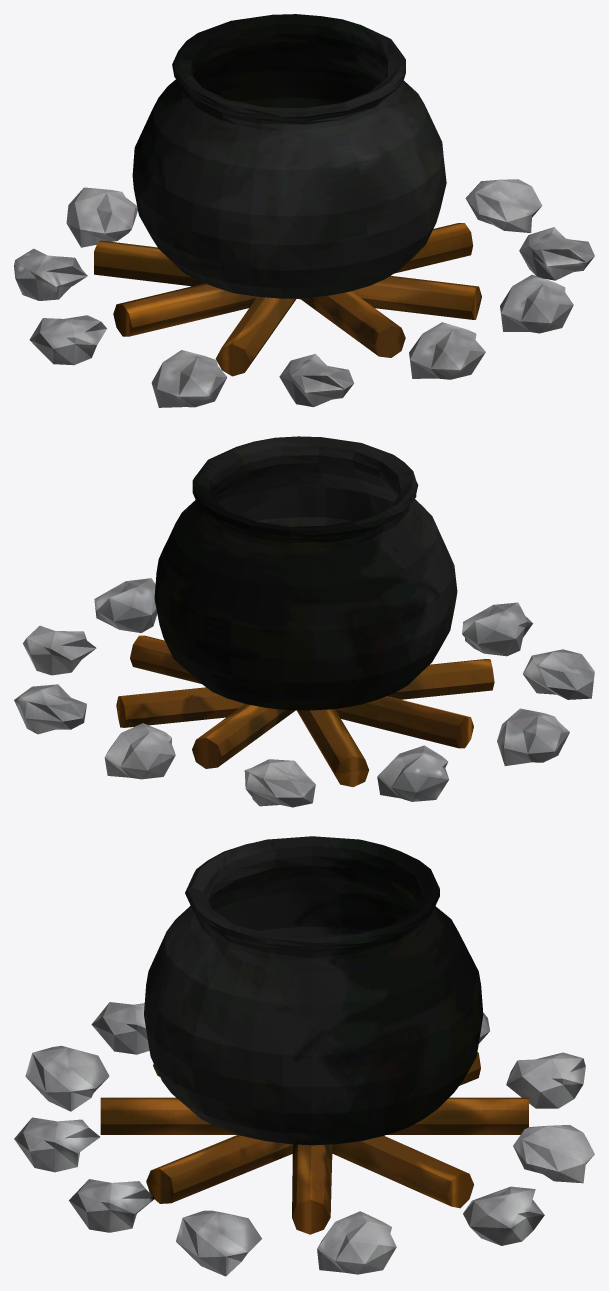
The model's file is Kettle.glb.
The picture shows the model from 3 angles, top to bottom: view 1: azimuth 30°, elevation 25°; view 2: azimuth 150°, elevation 25°; view 3: azimuth 270°, elevation 25°; orthographic projection. The views are drawn at different scales.
Parts seen in each view (by area): view 1: Kettle; view 2: Kettle; view 3: Kettle.
Boxes of the visible parts, x1,y1,x2,y2 form: Kettle: (14, 14, 594, 407); Kettle: (14, 436, 594, 807); Kettle: (14, 836, 594, 1276).
Bounding box in the file's own units: 908 × 388 × 796.
1 material, 1 textured.
